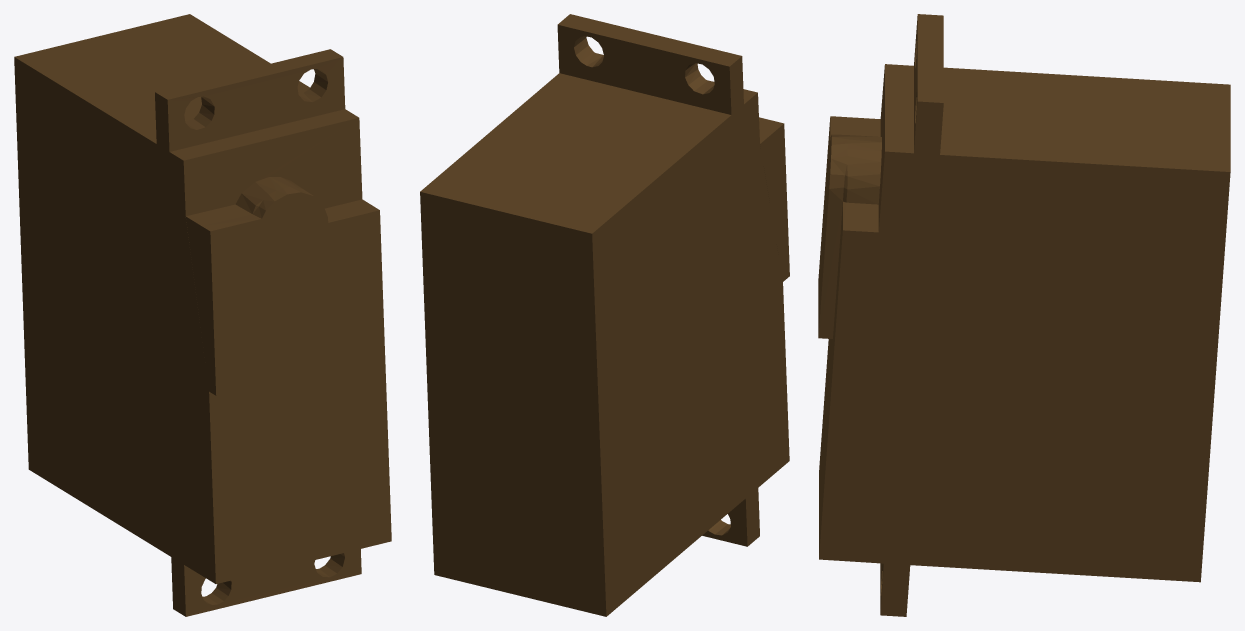
Rendered from left_elbow_x_link_visual_9.obj.
3 views of the same model, side by side, from view 1: azimuth 30°, elevation 25°; view 2: azimuth 150°, elevation 25°; view 3: azimuth 270°, elevation 25° (orthographic). The views are drawn at different scales.
Visible parts, largest first — view 1: i01.left.bicep.full.010_visual.001; view 2: i01.left.bicep.full.010_visual.001; view 3: i01.left.bicep.full.010_visual.001.
Boxes of the visible parts, x1,y1,x2,y2 form: i01.left.bicep.full.010_visual.001: [14, 14, 391, 616]; i01.left.bicep.full.010_visual.001: [420, 14, 789, 616]; i01.left.bicep.full.010_visual.001: [818, 14, 1230, 616].
Size of the model in its own units: 0.2829 by 0.7762 by 0.5625.
